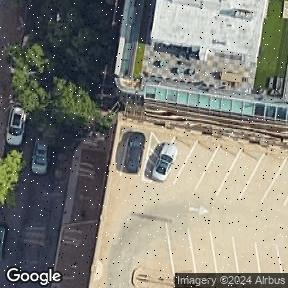vegetation: (0, 148, 25, 207)
